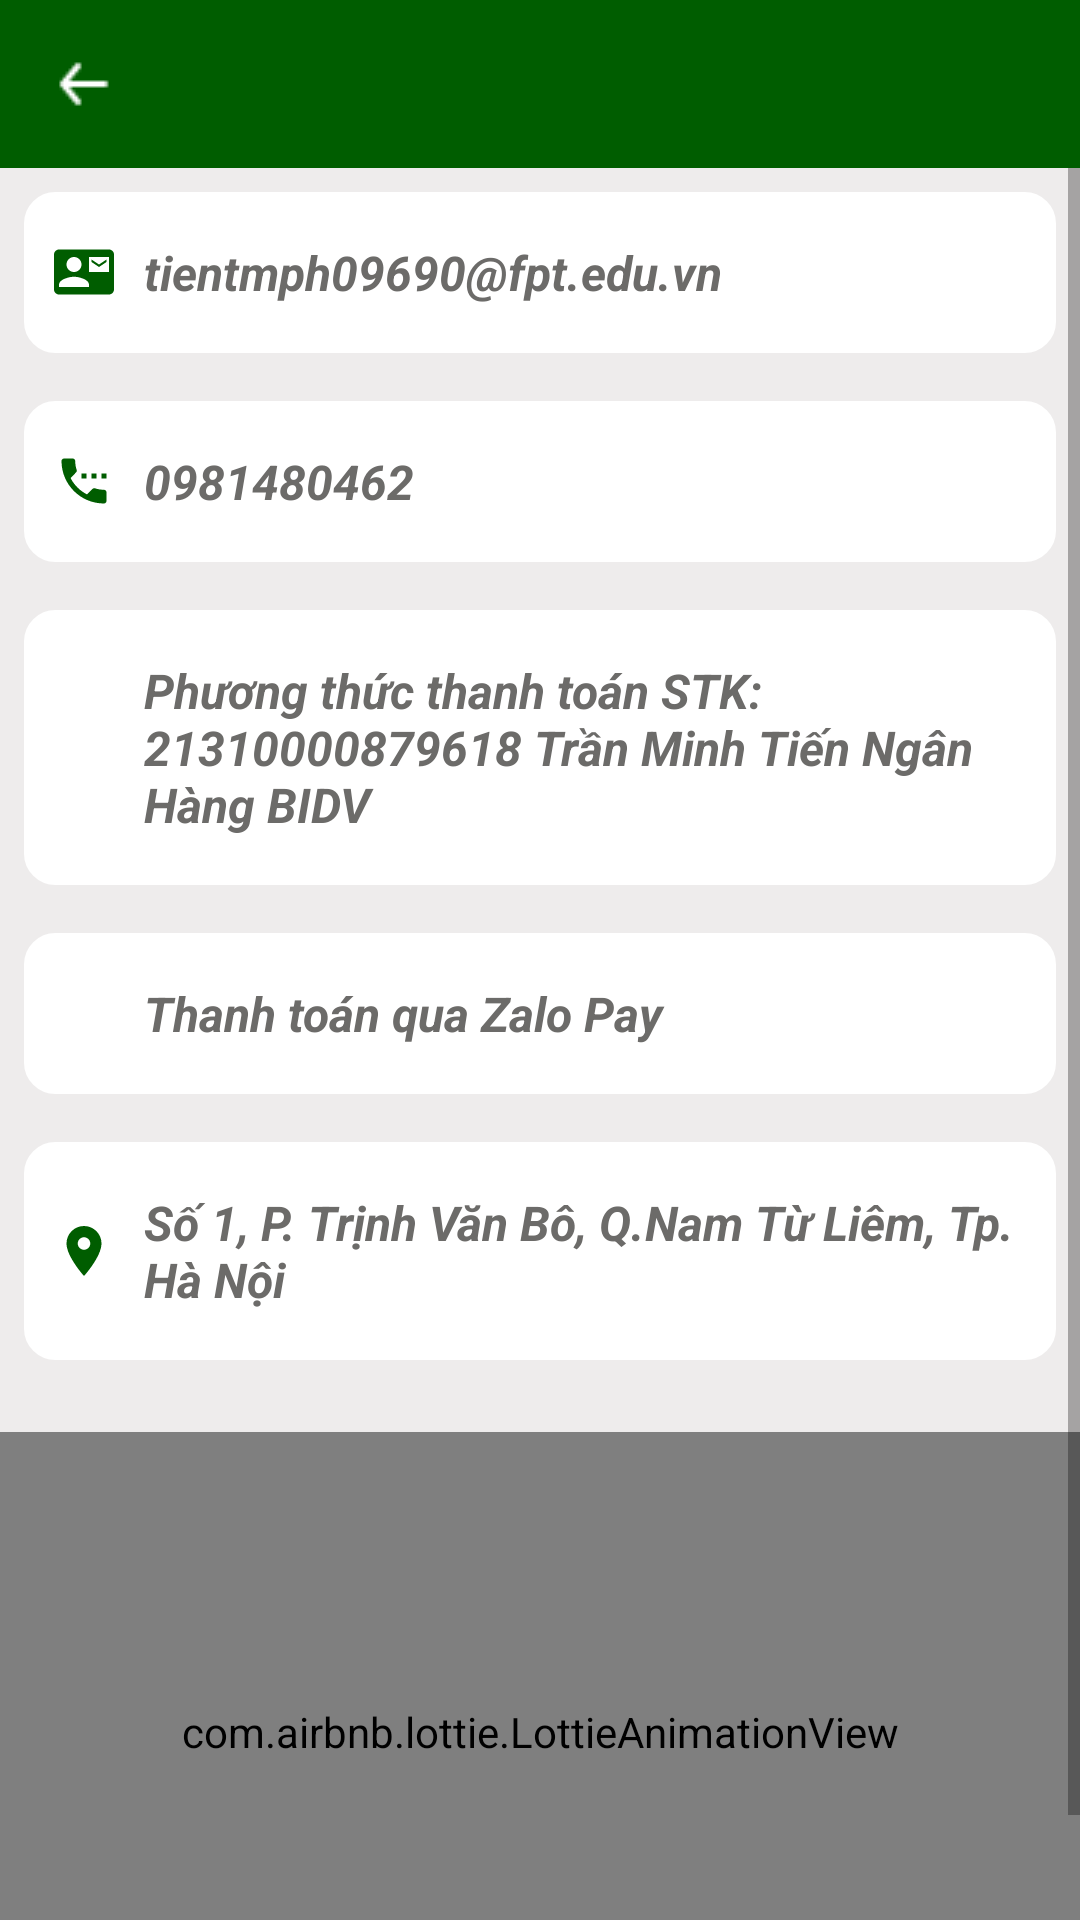

Icon click points for this 1080 × 1920 phone screenshot, format point (x, y):
contact mail: point (84, 272)
location on: point (84, 1251)
settings phone: point (84, 481)
